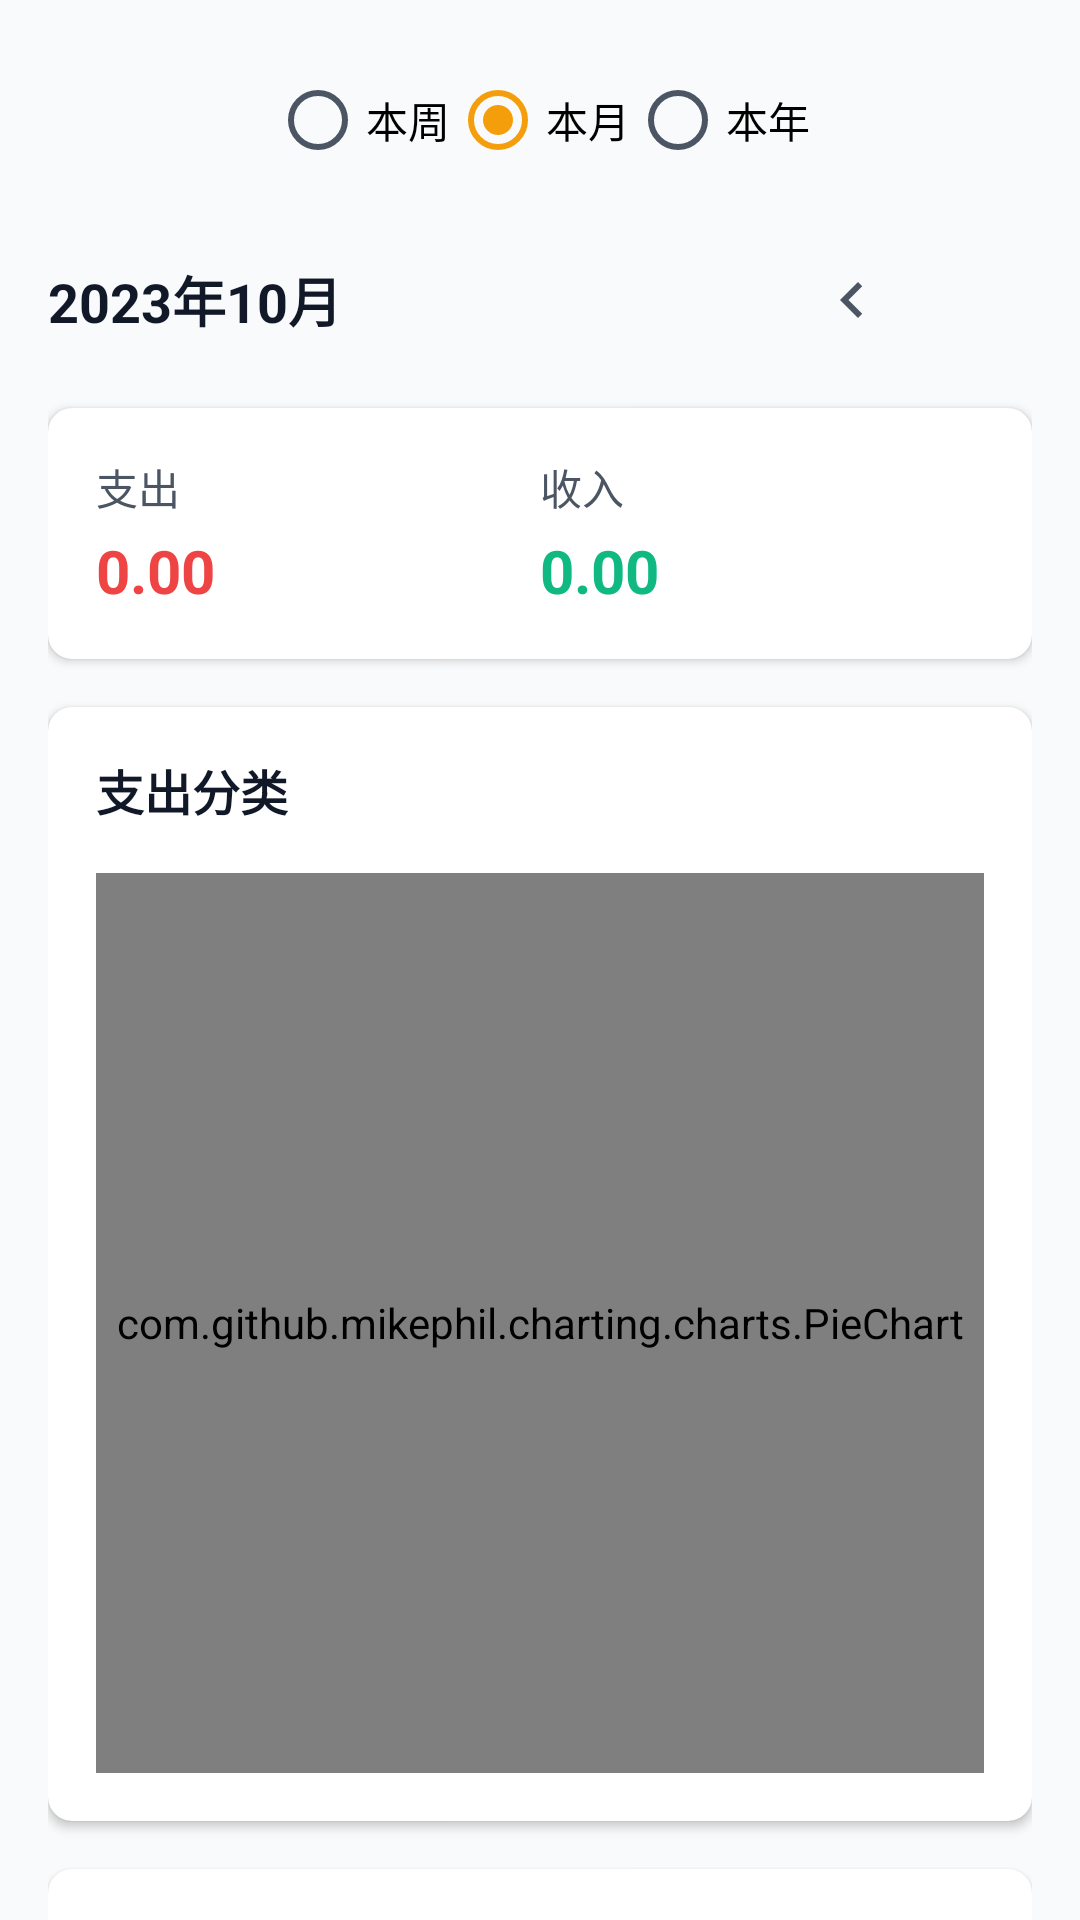

Icon click points for this 1080*1920 phone screenshot, format [x,y]:
上个月: [851,300]
